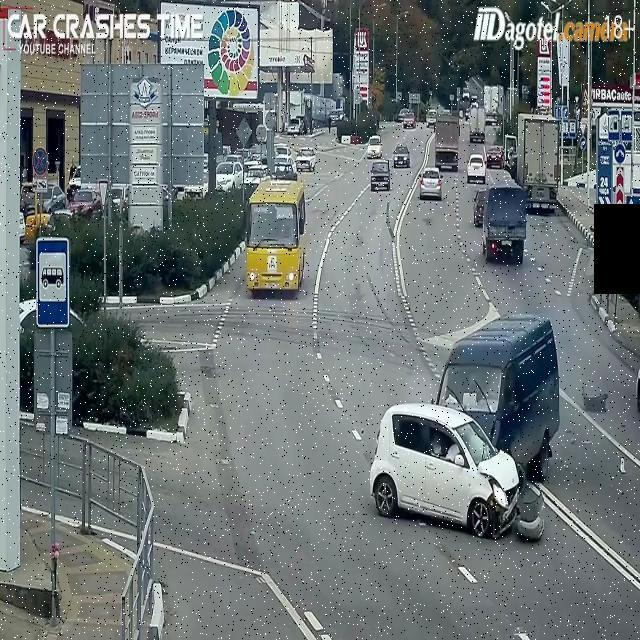moderate: (367, 311, 566, 546)
